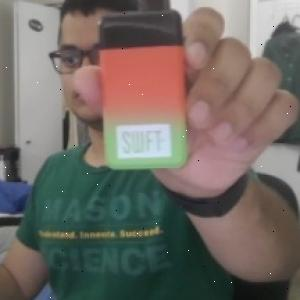Swift-E-Ciggirate: (93, 0, 193, 172)
